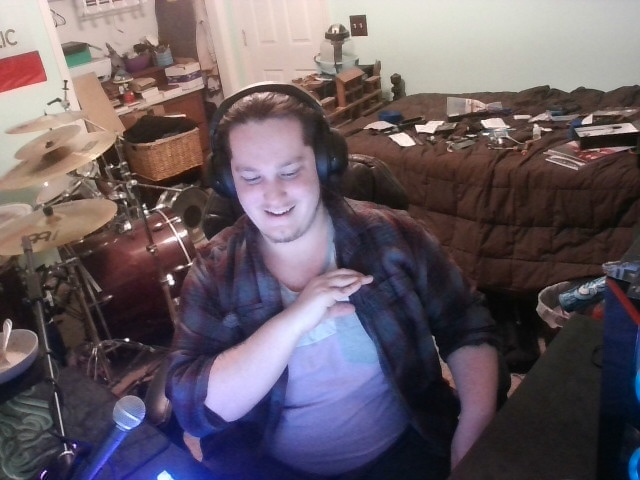police: (299, 255, 385, 336)
